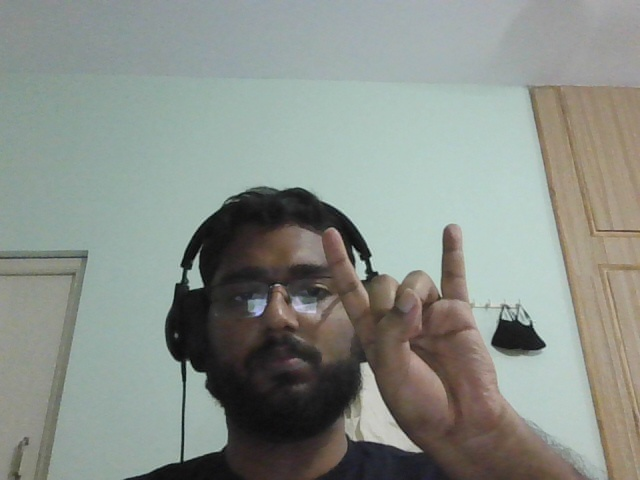I Love You: (310, 216, 540, 436)
